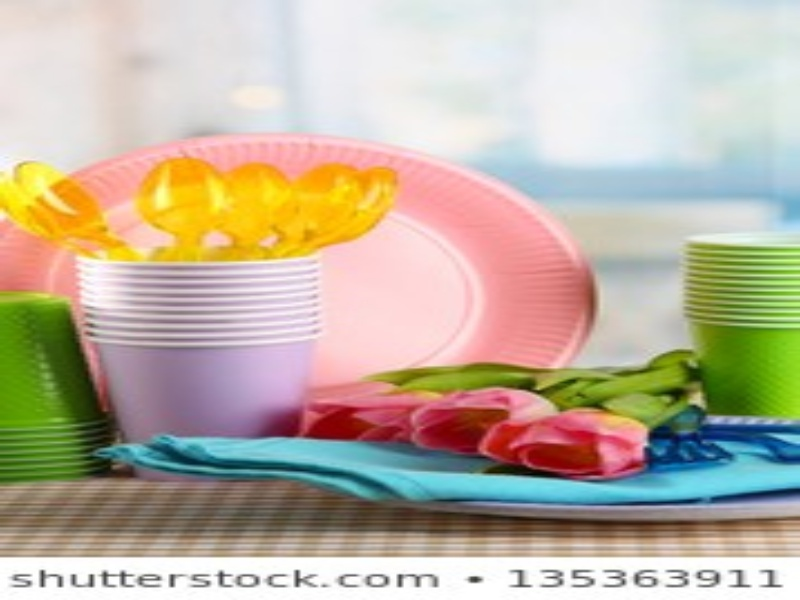plastic-cup: (79, 255, 315, 446), (681, 231, 800, 420), (1, 287, 110, 481)
plastic-plate: (1, 137, 596, 367)
plastic-silverware: (12, 155, 139, 263), (137, 152, 229, 264), (299, 163, 400, 265), (285, 158, 362, 261), (224, 160, 291, 261)
